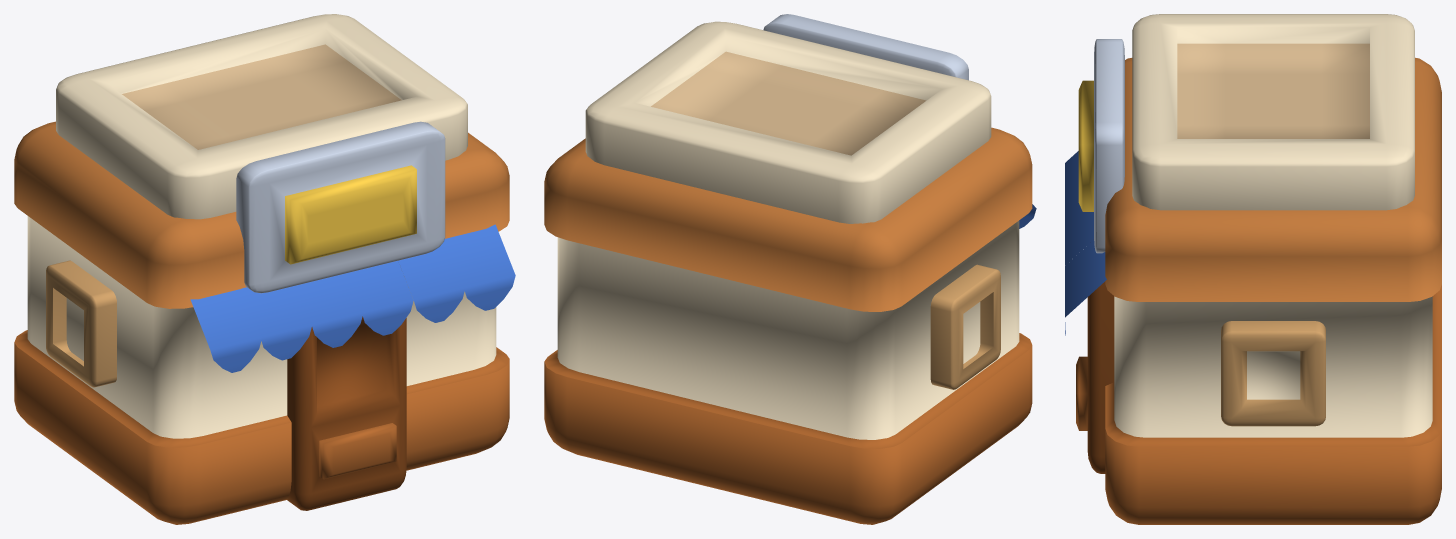
File: capy_store.glb
The picture shows the model from 3 angles, left to right: view 1: azimuth 30°, elevation 25°; view 2: azimuth 150°, elevation 25°; view 3: azimuth 270°, elevation 25°; orthographic projection. The views are drawn at different scales.
Parts seen in each view (by area): view 1: House_Blue_0; view 2: House_Blue_0; view 3: House_Blue_0.
Part boxes in pixels (x1,y1,x2,y2): House_Blue_0: [14, 14, 515, 524]; House_Blue_0: [544, 14, 1036, 524]; House_Blue_0: [1065, 14, 1441, 524].
Bounding box in the file's own units: 3.92 × 3.41 × 3.18.
